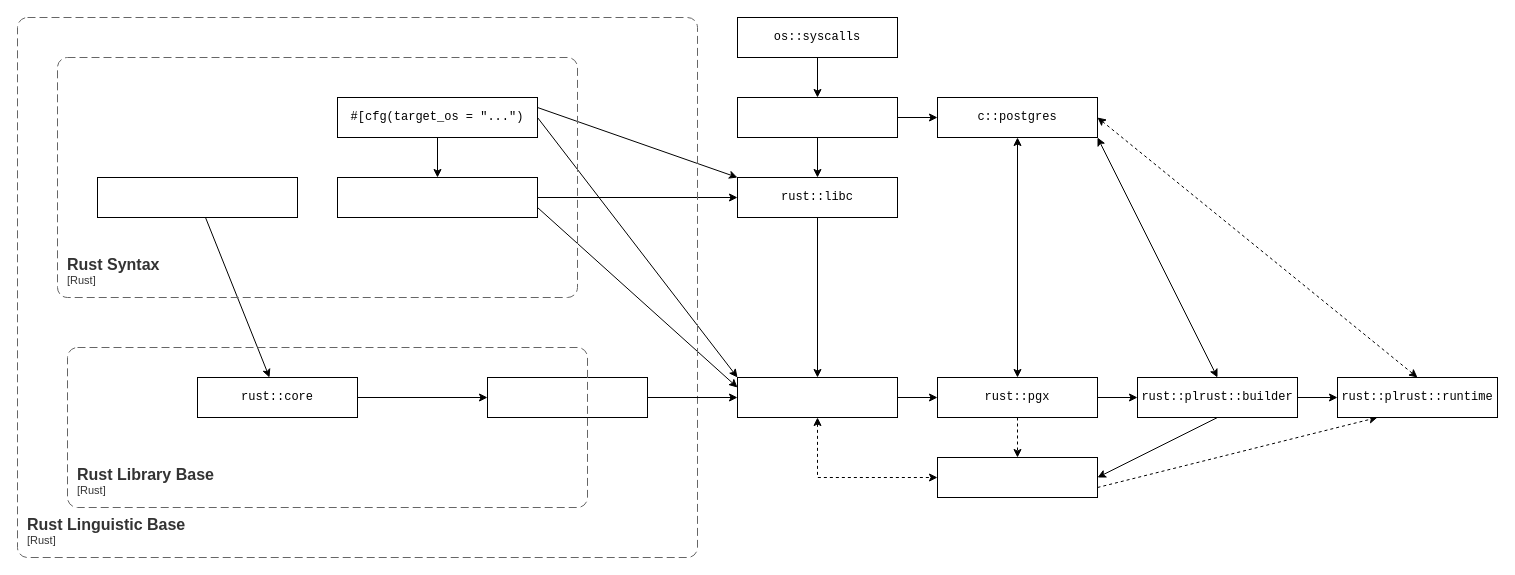
Image size: 1515x575. Some labels were removed from this diagram. Here are the shapes that lost their labels. From the top down, the centre of each, then its label:
point (817, 117): c::libc
point (197, 197): #[cfg(target_arch = "...")
point (437, 197): #[cfg(target_env = "...")
point (567, 397): rust::alloc
point (817, 397): rust::std
point (1017, 477): rust::postgrestd
